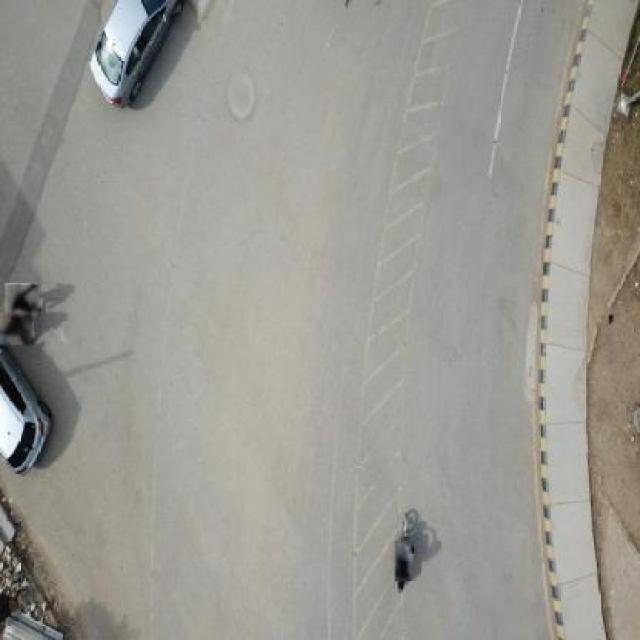Person: (5, 284, 40, 318), (0, 312, 34, 346), (395, 542, 414, 582)
